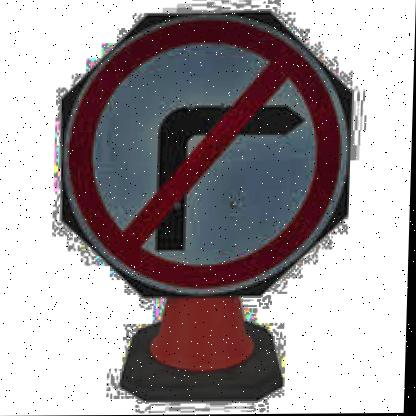No right turn: (52, 9, 364, 298)
